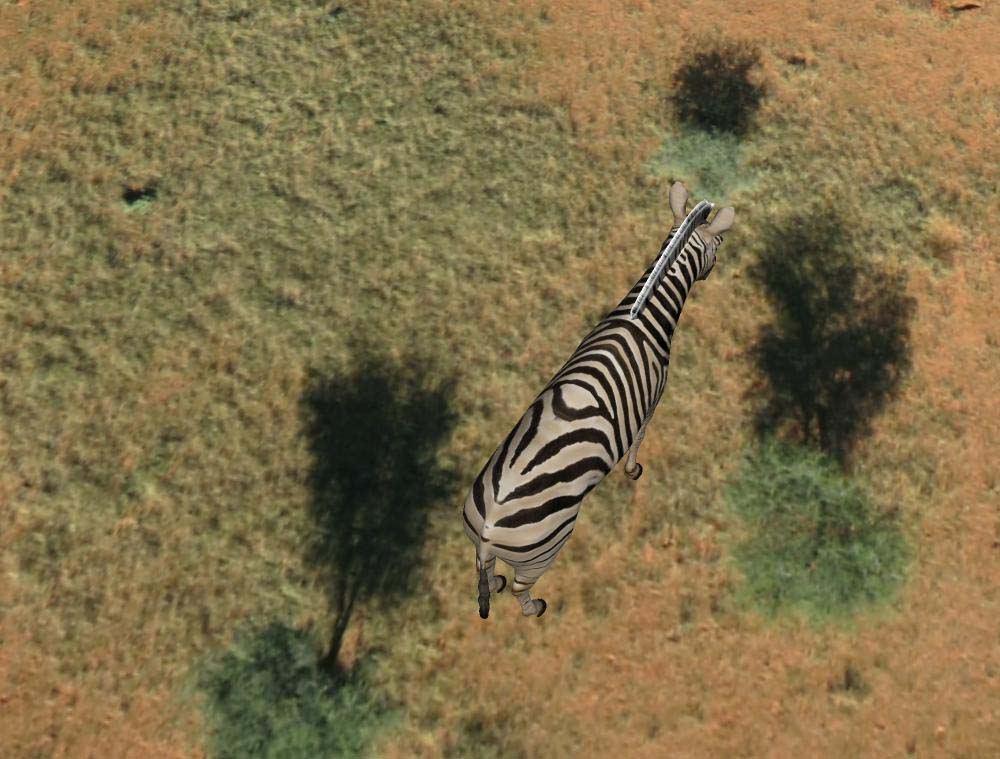zebra: (464, 185, 736, 624)
